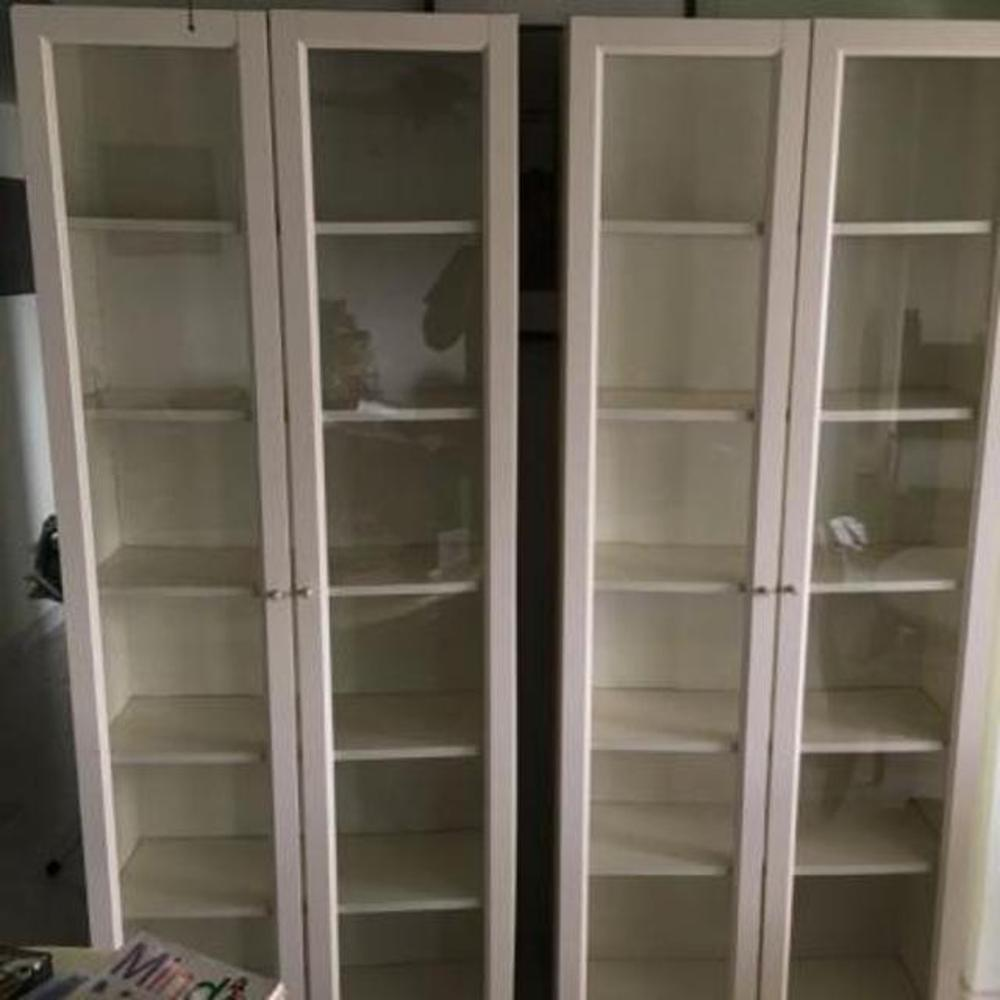lamp: (5, 0, 524, 998), (564, 11, 998, 999)
